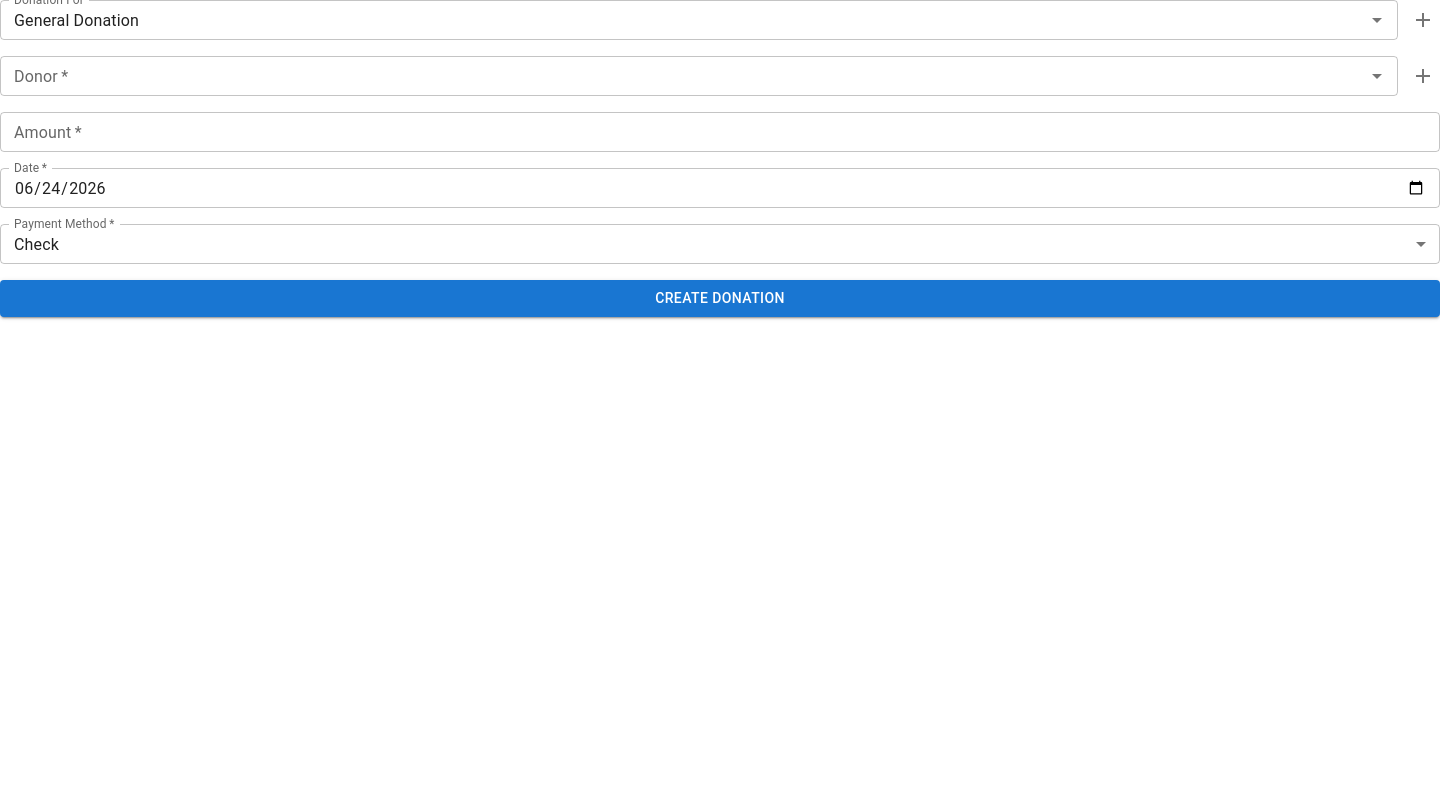
Test: DonationForm › created donor auto-selects in DonorAutocomplete
Click the button named "create donor": (1423, 76) [1406,59,1439,93]
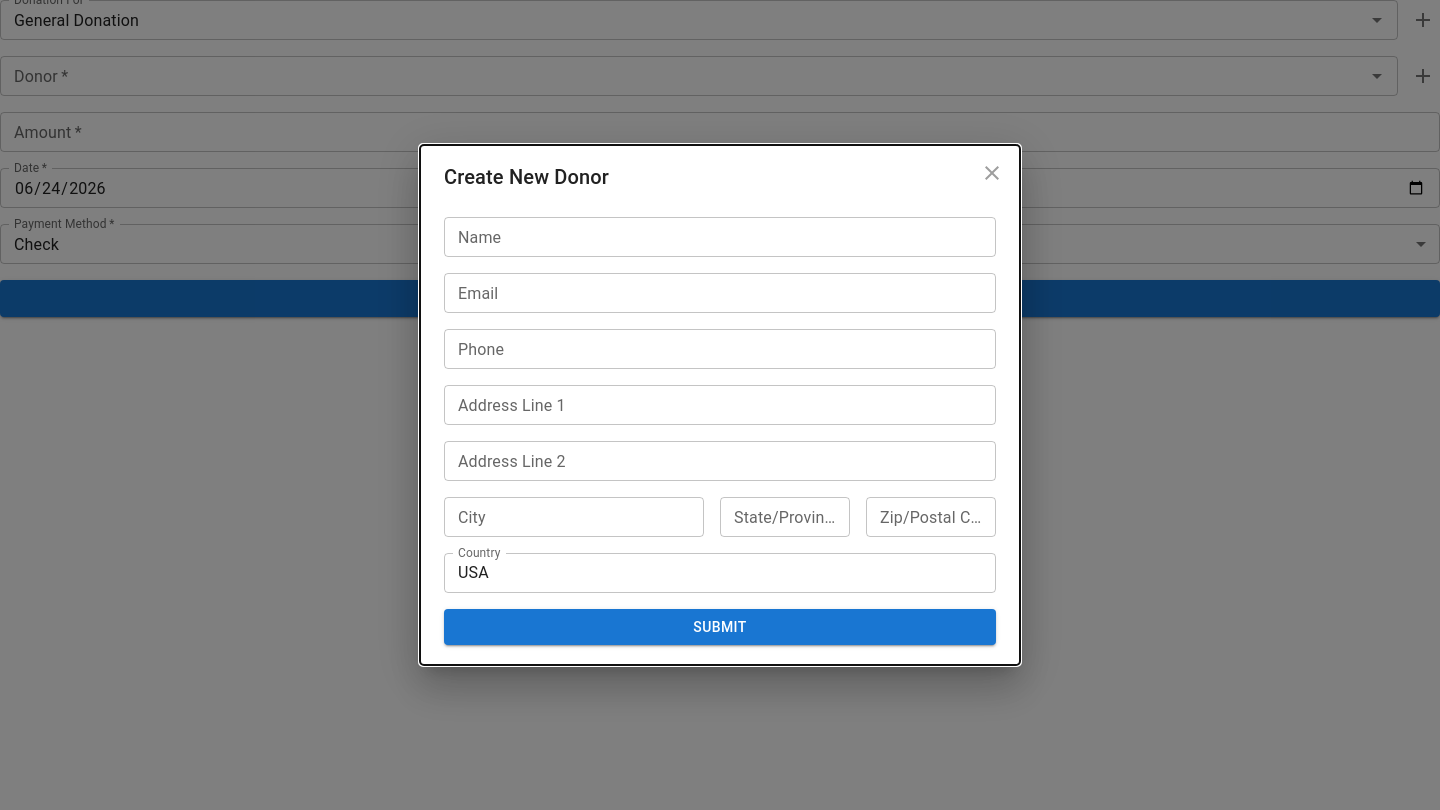
Note: Fill out and submit form
In the field labelled "Name": (720, 237) [444,217,996,257], type "New Donor"
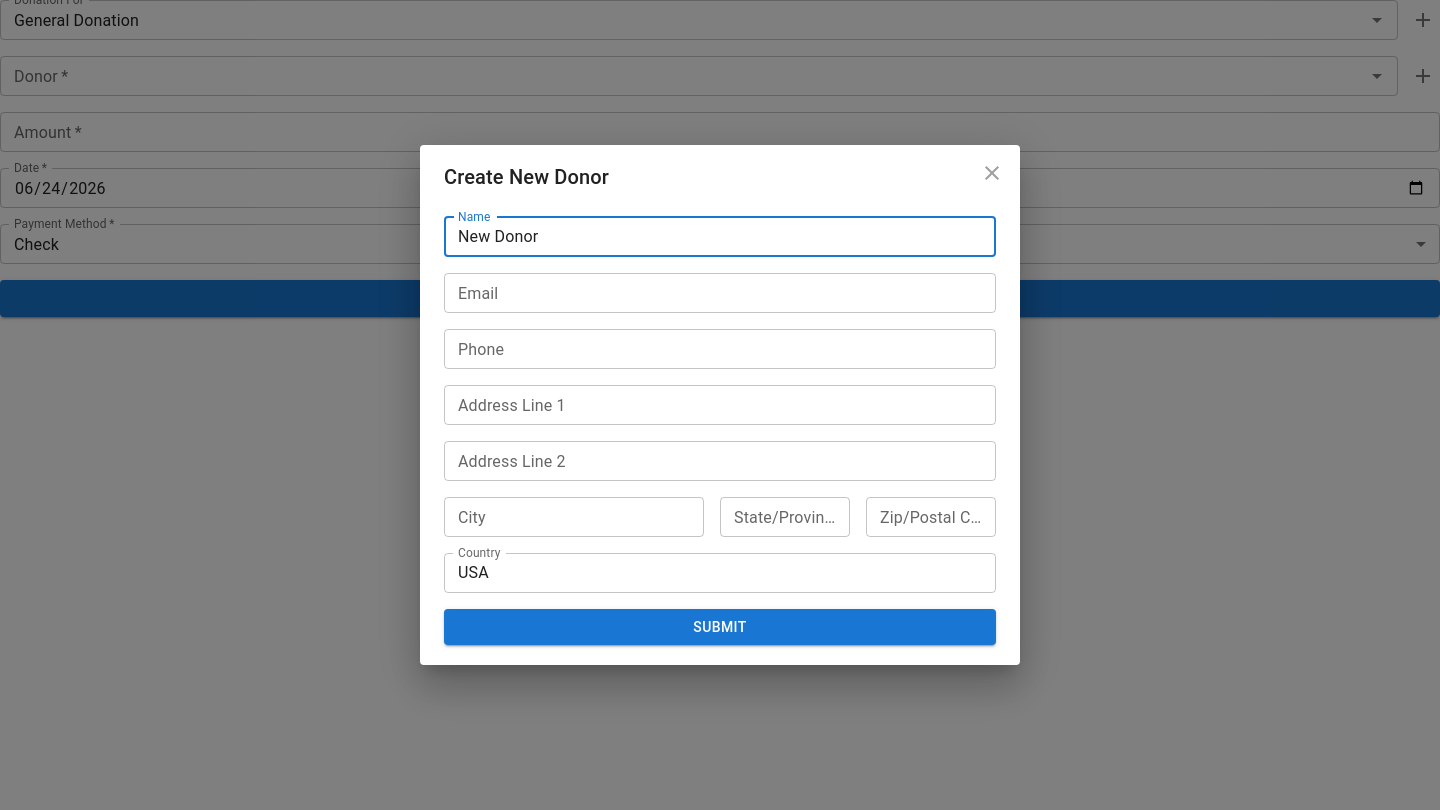
In the field labelled "Email": (720, 293) [444,273,996,313], type "new@example.com"
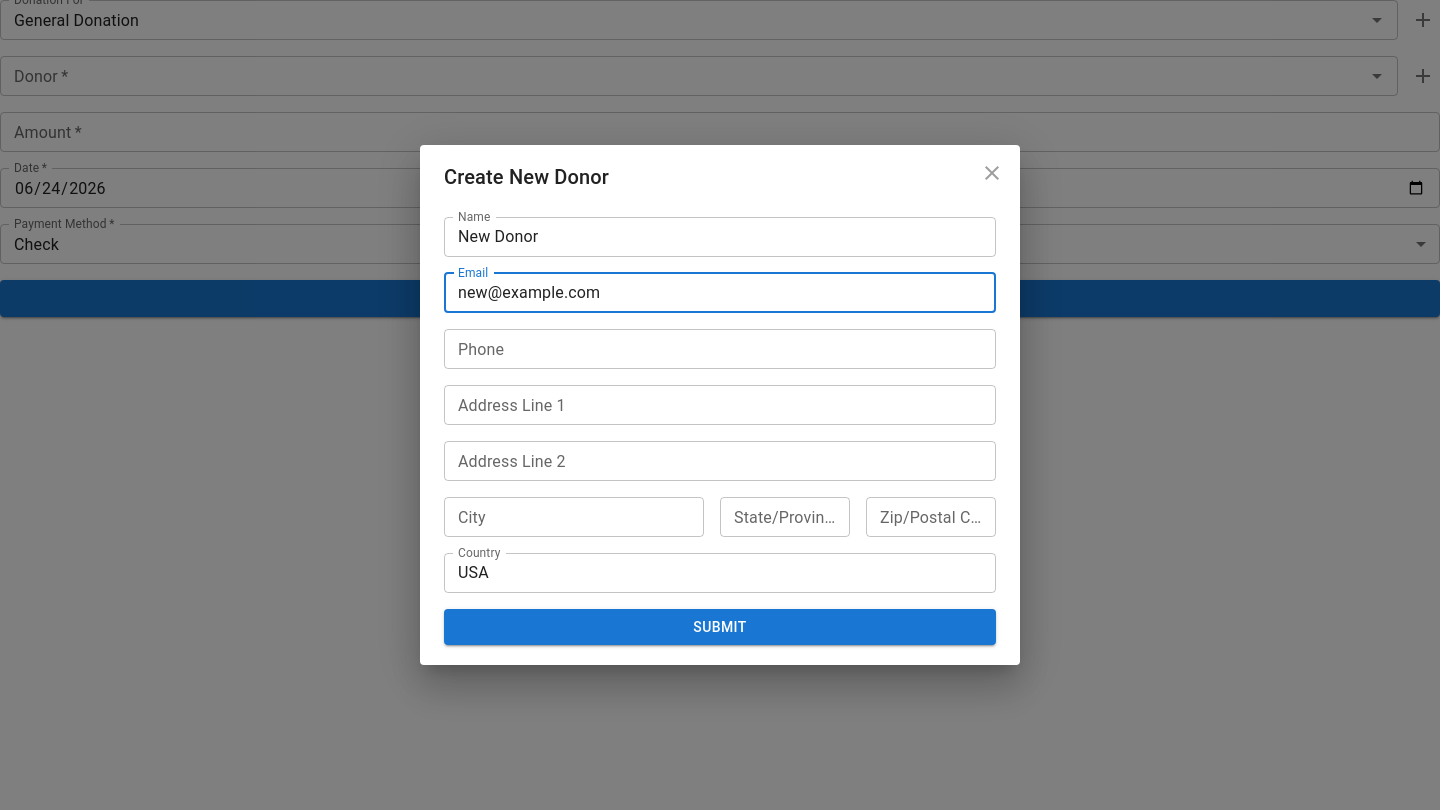
Click the button "Submit": (720, 627) [444,609,996,645]
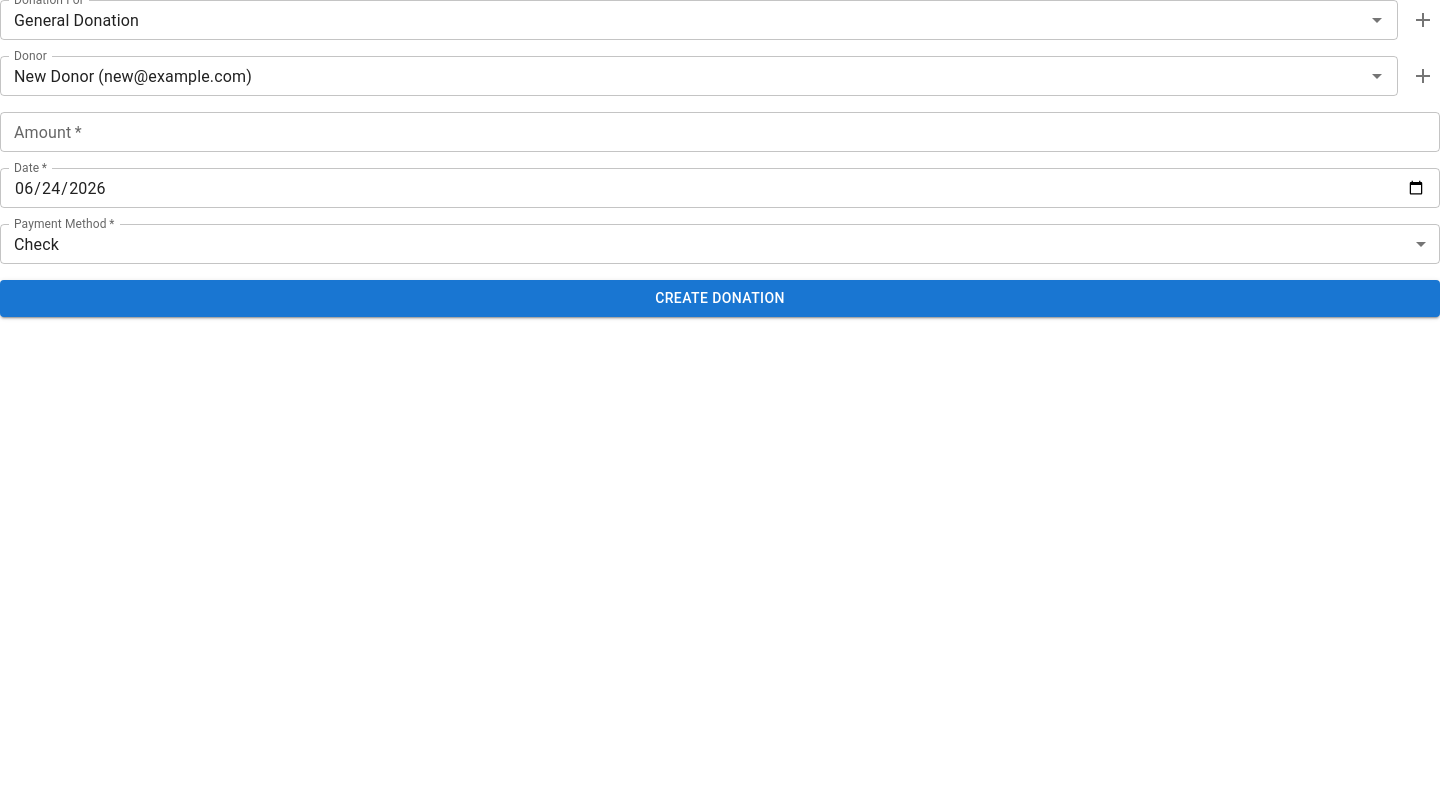
Now the dropdown labelled "Donor" holds "New Donor (new@example.com)", box [6,62,1333,90]
